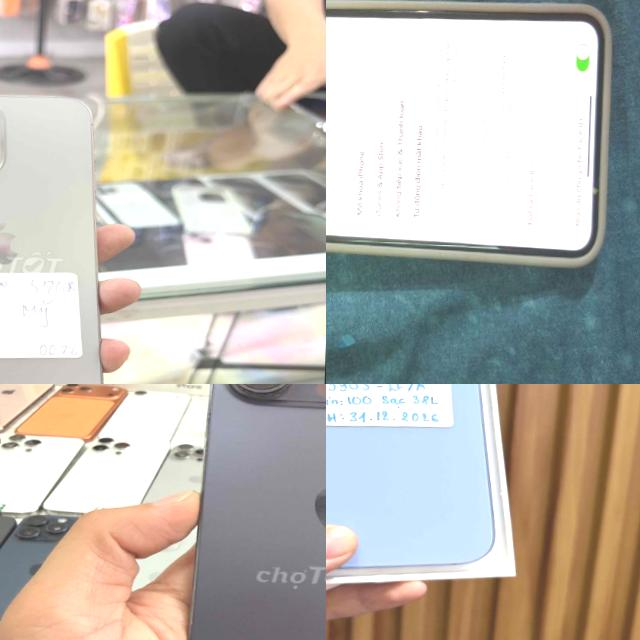scratch: (584, 176, 606, 207)
